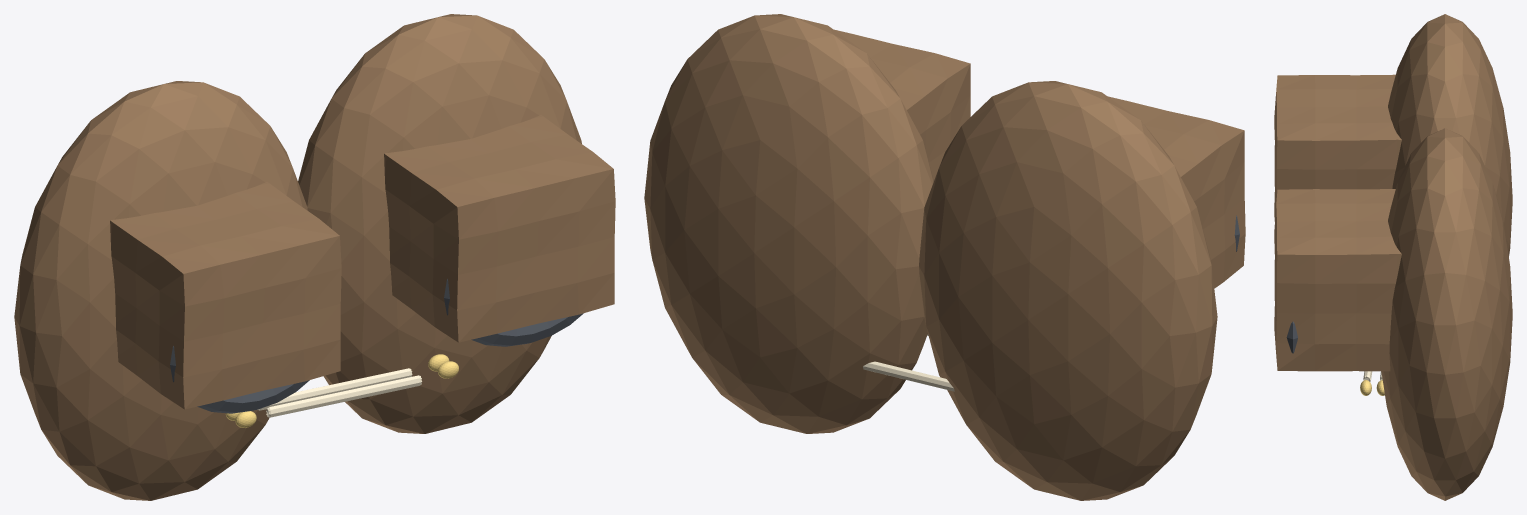
File: botas.glb
3 views of the same model, side by side, from view 1: azimuth 30°, elevation 25°; view 2: azimuth 150°, elevation 25°; view 3: azimuth 270°, elevation 25° (orthographic). The views are drawn at different scales.
Parts seen in each view (by area): view 1: botas_00, botas_03, botas_04, botas_01, Detalle_05, botas_02, botas_05, Detalle_04; view 2: botas_00, botas_03, botas_01, botas_04, Detalle_11; view 3: botas_03, botas_04, botas_01, botas_00.
Part boxes in pixels (box(x1,y1,x2,y2)): botas_00: box(14, 81, 307, 500); botas_03: box(298, 14, 581, 433); botas_04: box(384, 115, 615, 342); botas_01: box(110, 182, 341, 409); Detalle_05: box(266, 375, 422, 417); botas_02: box(170, 346, 309, 413); botas_05: box(444, 279, 583, 346); Detalle_04: box(257, 368, 412, 410); botas_00: box(919, 81, 1217, 500); botas_03: box(644, 14, 933, 433); botas_01: box(1108, 96, 1245, 288); botas_04: box(834, 29, 970, 180); Detalle_11: box(863, 361, 954, 391); botas_03: box(1381, 128, 1512, 500); botas_04: box(1274, 189, 1401, 371); botas_01: box(1274, 74, 1401, 221); botas_00: box(1388, 14, 1512, 256).
Bounding box in the file's own units: 1.08 × 0.7567 × 0.4631.
